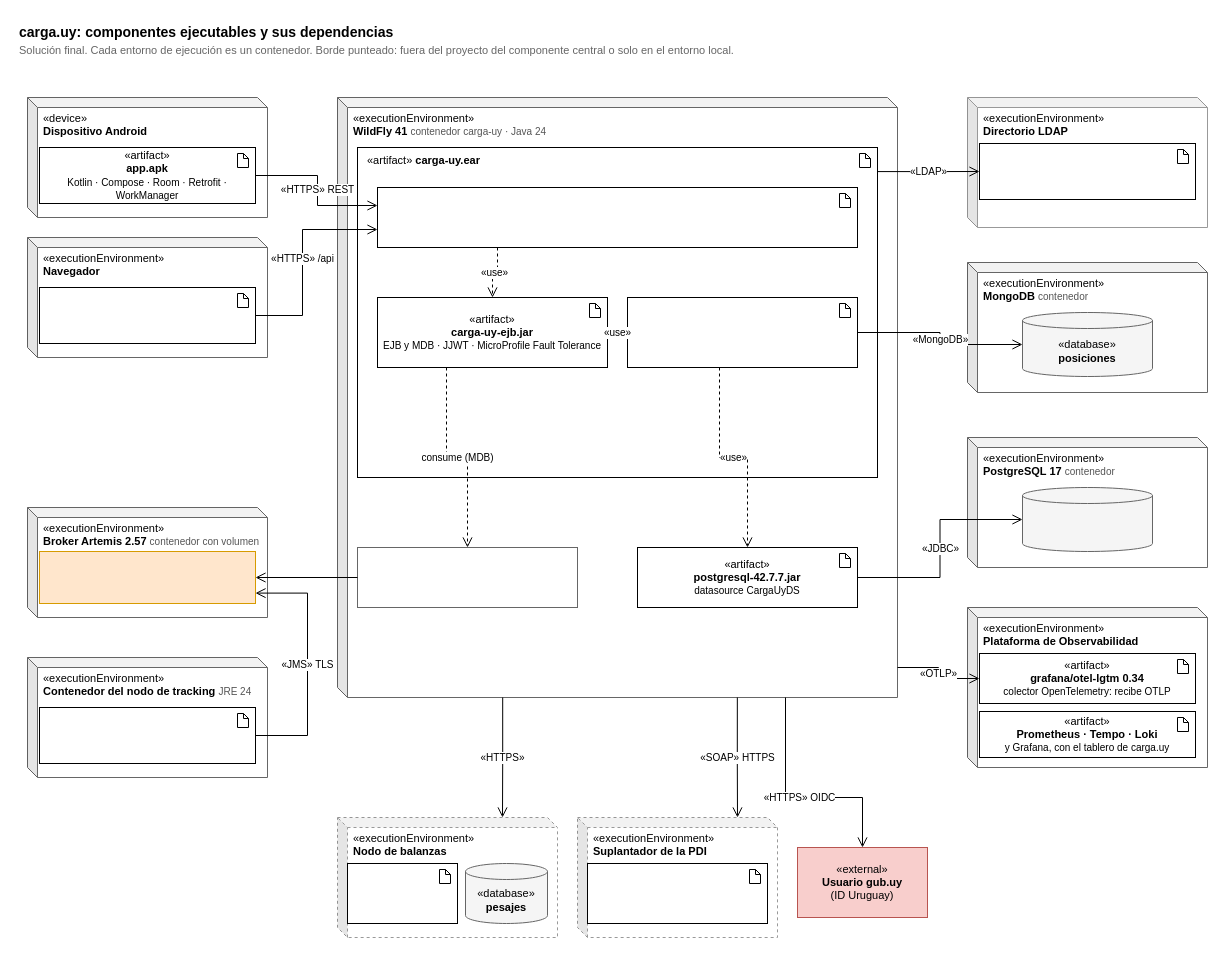
Some shapes in this 1225 by 955 pixel diagram are drawn without their labels. The centre of each missing label's shape, as x and y in pixels:
adaptador de recursos pooled-connection-factory hacia el broker: (467,577)
queue_tracking paging a disco (AC17): (147,577)
«artifact» carga-uy-datos.jar entidades JPA · controlador de MongoDB: (742,332)
«artifact» carga-uy-web.war JAX-RS en /carga-uy/api · JSF (backoffice): (617,217)
«artifact» directorio usuarios y grupos del backoffice: (1087,171)
«artifact» frontend dist/ React 19 · build de Vite: (147,315)
«artifact» nodo de balanzas HTTPS (R3): (402,893)
«artifact» nodo-tracking.jar cliente de Artemis · generador de carga: (147,735)
«artifact» suplantador PDI SOAP (R1, R5): (677,893)
«database» cargauy: (1087,519)
